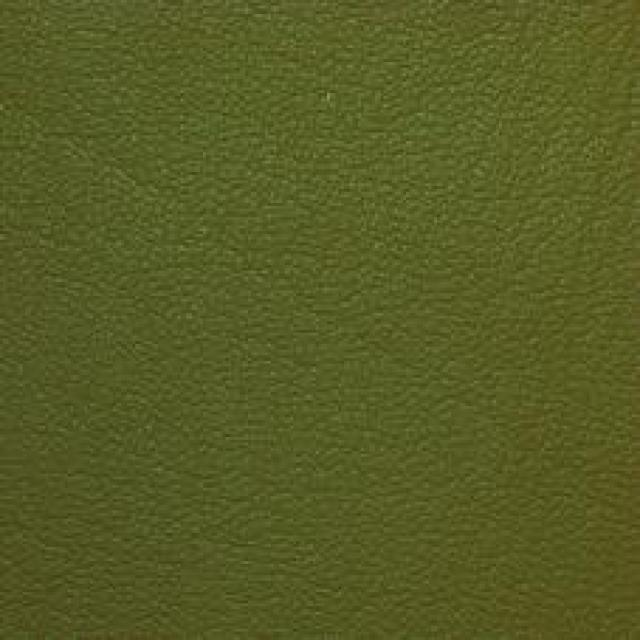Growth Marks: (334, 301, 549, 470), (90, 148, 284, 300)
